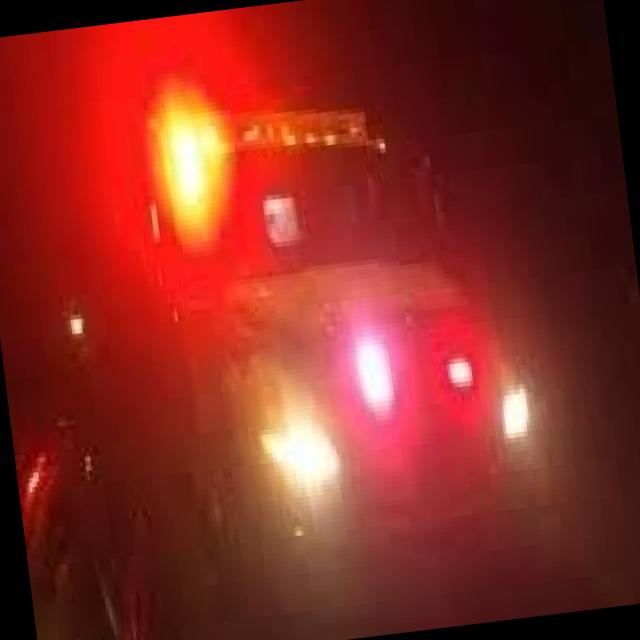ambulance: (88, 49, 575, 640)
